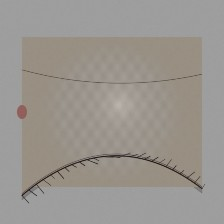hemorrhage_spot: (55, 73, 137, 139)
